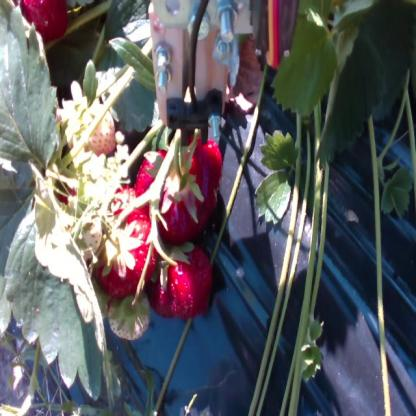ripe: (134, 150, 218, 235), (94, 197, 152, 294), (155, 243, 212, 319), (185, 139, 224, 188), (18, 0, 70, 35)
unripe: (73, 98, 114, 152)
